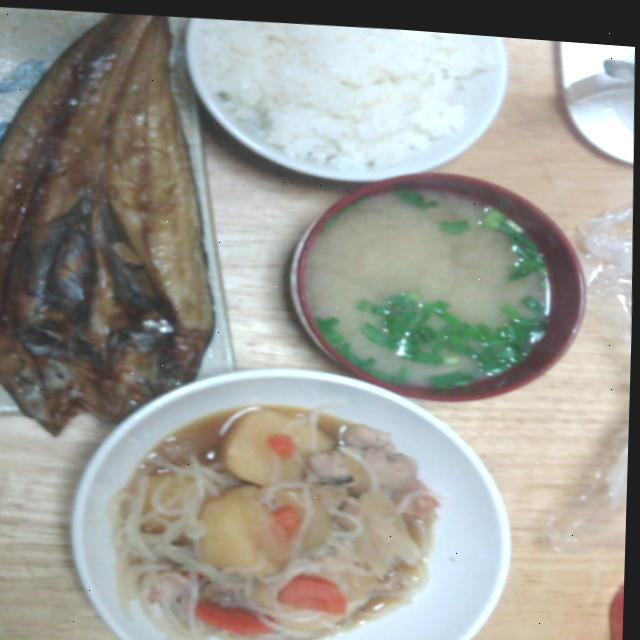汤锅炖物: (290, 171, 568, 400)
牛肉菜式: (90, 381, 442, 640)
米饭主食: (201, 12, 499, 162)
